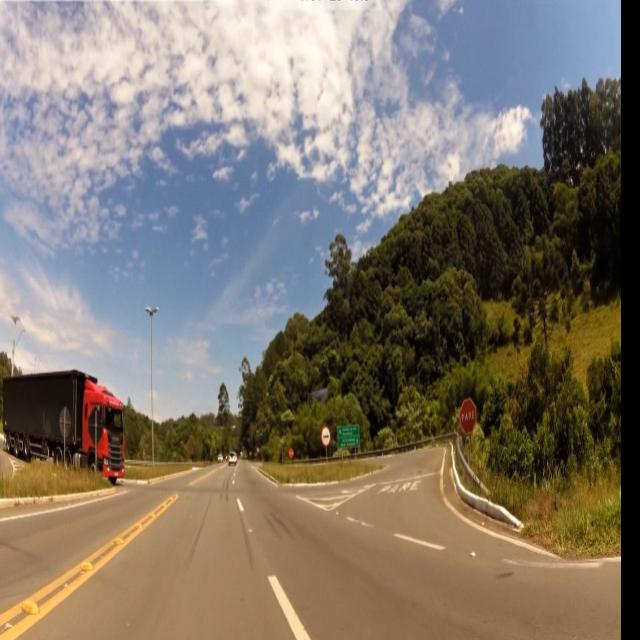R-1: (457, 395, 479, 440)
